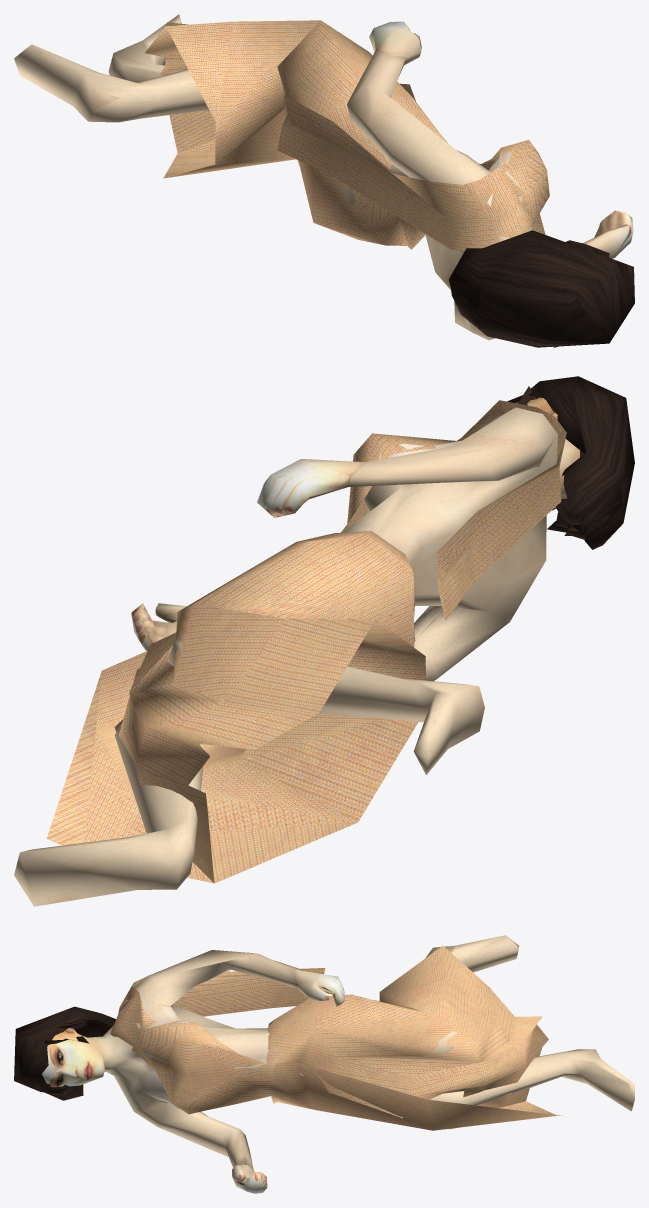
Rendered from female_000104.obj.
3 renders of one model, top to bottom at view 1: azimuth 30°, elevation 25°; view 2: azimuth 150°, elevation 25°; view 3: azimuth 270°, elevation 25°, orthographic. The views are drawn at different scales.
Visible parts, largest first — view 1: saree_Cylinder, body.001_omino.012, hair.000_omino.000; view 2: saree_Cylinder, body.001_omino.012, hair.000_omino.000; view 3: saree_Cylinder, body.001_omino.012, hair.000_omino.000.
Part boxes in pixels (x1,y1,x2,y2): saree_Cylinder: (145, 20, 549, 251); body.001_omino.012: (14, 14, 633, 340); hair.000_omino.000: (448, 230, 634, 347); saree_Cylinder: (46, 400, 566, 883); body.001_omino.012: (14, 397, 579, 906); hair.000_omino.000: (507, 376, 634, 549); saree_Cylinder: (110, 945, 564, 1130); body.001_omino.012: (42, 935, 634, 1193); hair.000_omino.000: (14, 1006, 115, 1100).
Size of the model in its own units: 1.46 by 0.7876 by 2.6.
